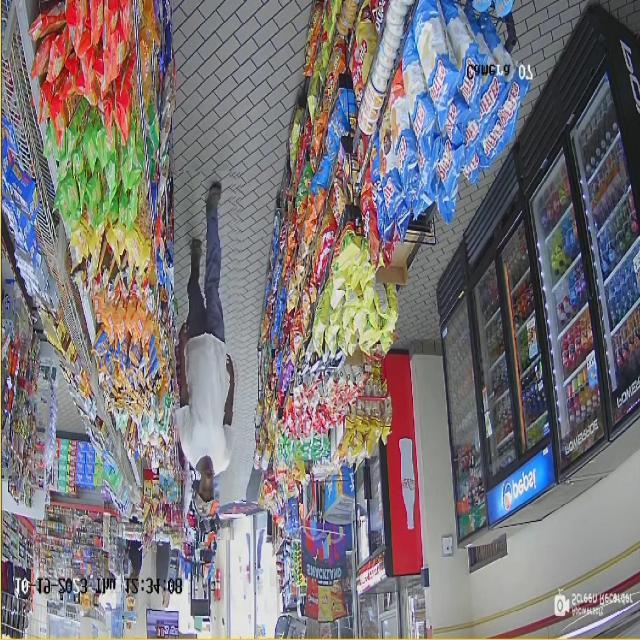Normal: (175, 171, 245, 542)
